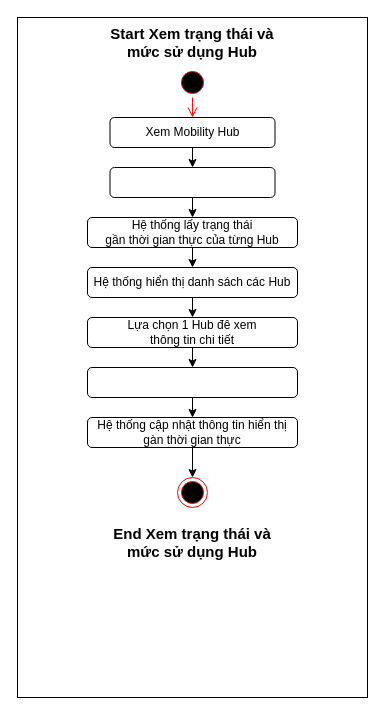
This 385x715 diagram has some shape labels left out. The centre of each missing label's shape, as x and y in pixels:
Hệ thống hiển thị trạng thái chi tiết của Hub được chọn: pixel 192 382
Hệ thống lấy danh sách các Mobility Hub: pixel 192 182
